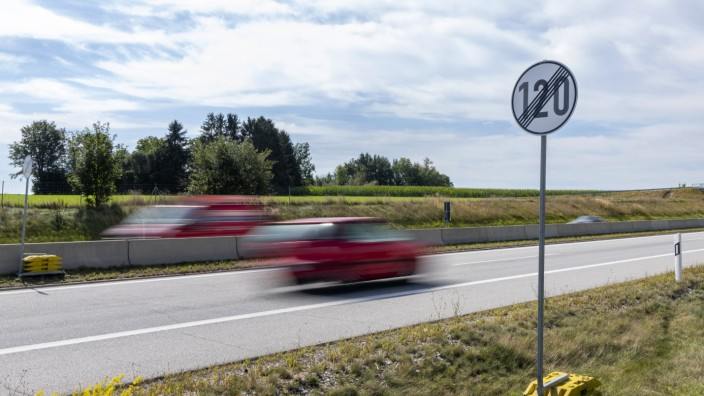aufgehoben: (511, 61, 578, 134)
